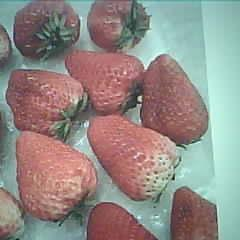straw-ripe: (89, 113, 180, 199), (14, 130, 97, 217), (141, 53, 208, 142), (65, 47, 143, 113), (9, 67, 83, 133), (14, 2, 79, 55)
